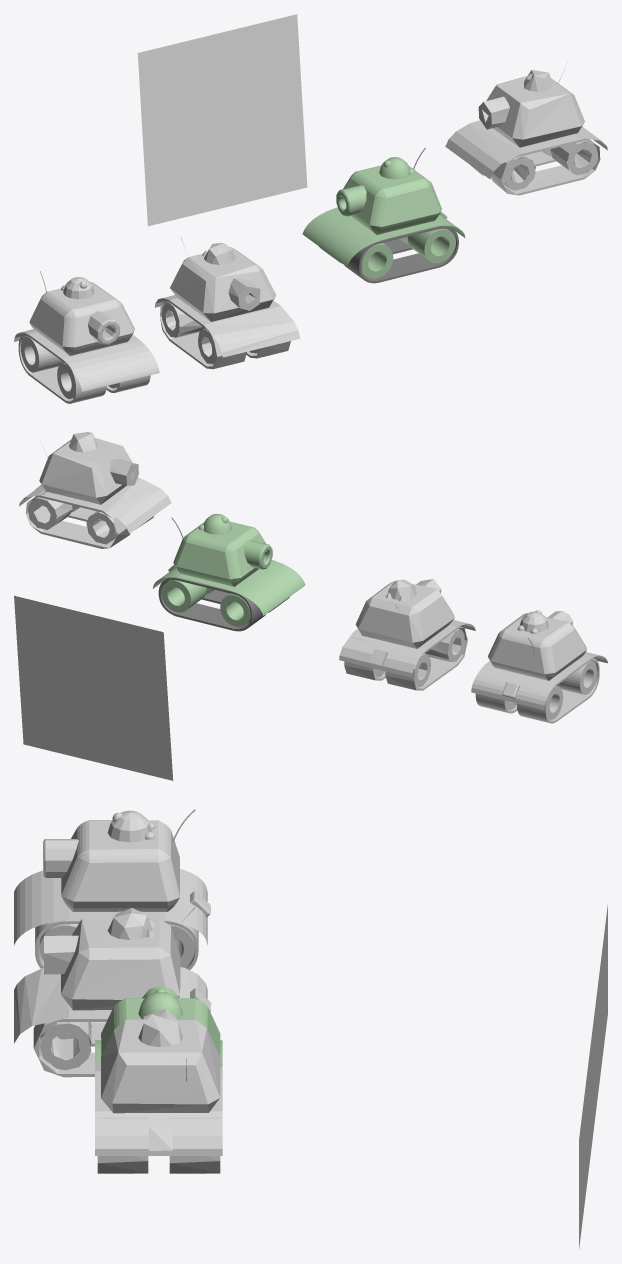
File: tank.fbx
3 renders of one model, top to bottom at view 1: azimuth 30°, elevation 25°; view 2: azimuth 150°, elevation 25°; view 3: azimuth 270°, elevation 25°, orthographic. The views are drawn at different scales.
Visible parts, largest first — view 1: 平面, 空白_3_2, 空白_3_3, 空白_3, 立方体_2, 放样, 扫描_1_2, 管道_1_2, 管道_2, 管道_3, 球体; view 2: 平面, 空白_3_2, 空白_3_3, 空白_3, 立方体_2, 放样, 扫描_1, 管道_1, 管道, 管道_3; view 3: 空白_3_2, 空白_3_3, 空白_3, 平面, 立方体_2, 球体.
Boxes of the visible parts, x1,y1,x2,y2 form: 平面: (137, 14, 307, 226); 空白_3_2: (445, 70, 607, 195); 空白_3_3: (14, 271, 159, 403); 空白_3: (154, 237, 300, 369); 立方体_2: (343, 165, 441, 234); 放样: (302, 207, 465, 266); 扫描_1_2: (344, 225, 458, 283); 管道_1_2: (407, 228, 455, 263); 管道_2: (361, 243, 393, 278); 管道_3: (336, 185, 366, 216); 球体: (379, 157, 409, 179); 平面: (14, 595, 173, 780); 空白_3_2: (19, 432, 171, 548); 空白_3_3: (471, 610, 607, 723); 空白_3: (339, 579, 475, 690); 立方体_2: (173, 521, 265, 586); 放样: (153, 559, 305, 615); 扫描_1: (158, 577, 265, 631); 管道_1: (161, 580, 206, 612); 管道: (220, 593, 250, 626); 管道_3: (244, 540, 272, 569); 空白_3_2: (95, 1009, 222, 1173); 空白_3_3: (14, 809, 210, 969); 空白_3: (14, 907, 211, 1077); 平面: (579, 905, 607, 1248); 立方体_2: (101, 998, 220, 1056); 球体: (138, 992, 182, 1019).
Size of the model in its own units: 1393 by 486 by 907.
